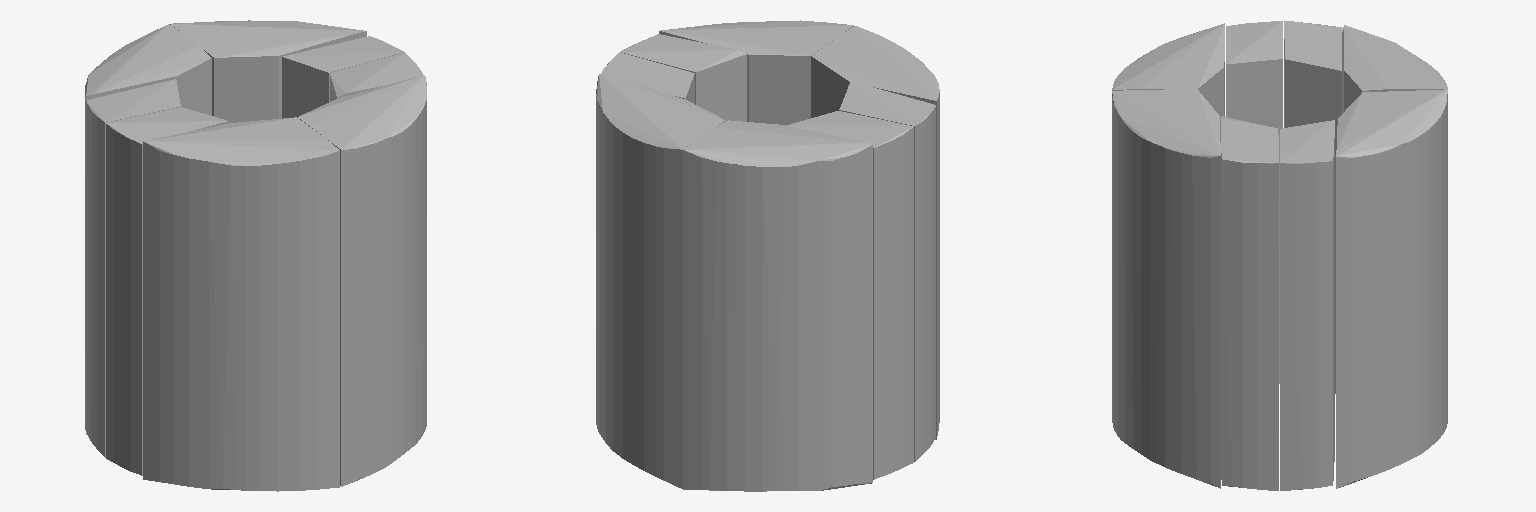
The robot description file, URDF, robot "root":
<robot name="root">
  <link name="link_cylinder with hole_convex_piece_0">
    <inertial>
      <origin xyz="0 0 0" rpy="0 0 0"/>
      <mass value="4.04E-02"/>
      <inertia ixx="4.88E-05" ixy="-1.36E-05" ixz="-1.55E-08" iyy="3.60E-05" iyz="-1.76E-08" izz="3.79E-05"/>
    </inertial>
    <visual>
      <origin xyz="0 0 0" rpy="0 0 0"/>
      <geometry>
        <mesh filename="cylinder with hole_convex_piece_0.obj" scale="1.0000E+00 1.0000E+00 1.0000E+00"/>
      </geometry>
      <material name="">
        <color rgba="7.50E-01 7.50E-01 7.50E-01 1"/>
      </material>
    </visual>
    <collision>
      <origin xyz="0 0 0" rpy="0 0 0"/>
      <geometry>
        <mesh filename="cylinder with hole_convex_piece_0.obj" scale="1.0000E+00 1.0000E+00 1.0000E+00"/>
      </geometry>
    </collision>
  </link>
  <link name="link_cylinder with hole_convex_piece_1">
    <inertial>
      <origin xyz="0 0 0" rpy="0 0 0"/>
      <mass value="1.69E-02"/>
      <inertia ixx="1.04E-05" ixy="-2.83E-06" ixz="-2.27E-09" iyy="2.26E-05" iyz="-1.39E-10" izz="1.39E-05"/>
    </inertial>
    <visual>
      <origin xyz="0 0 0" rpy="0 0 0"/>
      <geometry>
        <mesh filename="cylinder with hole_convex_piece_1.obj" scale="1.0000E+00 1.0000E+00 1.0000E+00"/>
      </geometry>
      <material name="">
        <color rgba="7.50E-01 7.50E-01 7.50E-01 1"/>
      </material>
    </visual>
    <collision>
      <origin xyz="0 0 0" rpy="0 0 0"/>
      <geometry>
        <mesh filename="cylinder with hole_convex_piece_1.obj" scale="1.0000E+00 1.0000E+00 1.0000E+00"/>
      </geometry>
    </collision>
  </link>
  <joint name="link_cylinder with hole_convex_piece_1_joint" type="fixed">
    <origin xyz="0 0 0" rpy="0 0 0"/>
    <parent link="link_cylinder with hole_convex_piece_0"/>
    <child link="link_cylinder with hole_convex_piece_1"/>
  </joint>
  <link name="link_cylinder with hole_convex_piece_2">
    <inertial>
      <origin xyz="0 0 0" rpy="0 0 0"/>
      <mass value="1.81E-02"/>
      <inertia ixx="1.16E-05" ixy="3.36E-06" ixz="1.68E-09" iyy="2.43E-05" iyz="-8.19E-10" izz="1.50E-05"/>
    </inertial>
    <visual>
      <origin xyz="0 0 0" rpy="0 0 0"/>
      <geometry>
        <mesh filename="cylinder with hole_convex_piece_2.obj" scale="1.0000E+00 1.0000E+00 1.0000E+00"/>
      </geometry>
      <material name="">
        <color rgba="7.50E-01 7.50E-01 7.50E-01 1"/>
      </material>
    </visual>
    <collision>
      <origin xyz="0 0 0" rpy="0 0 0"/>
      <geometry>
        <mesh filename="cylinder with hole_convex_piece_2.obj" scale="1.0000E+00 1.0000E+00 1.0000E+00"/>
      </geometry>
    </collision>
  </link>
  <joint name="link_cylinder with hole_convex_piece_2_joint" type="fixed">
    <origin xyz="0 0 0" rpy="0 0 0"/>
    <parent link="link_cylinder with hole_convex_piece_1"/>
    <child link="link_cylinder with hole_convex_piece_2"/>
  </joint>
  <link name="link_cylinder with hole_convex_piece_3">
    <inertial>
      <origin xyz="0 0 0" rpy="0 0 0"/>
      <mass value="3.97E-02"/>
      <inertia ixx="4.84E-05" ixy="1.33E-05" ixz="-8.98E-10" iyy="3.51E-05" iyz="6.18E-09" izz="3.73E-05"/>
    </inertial>
    <visual>
      <origin xyz="0 0 0" rpy="0 0 0"/>
      <geometry>
        <mesh filename="cylinder with hole_convex_piece_3.obj" scale="1.0000E+00 1.0000E+00 1.0000E+00"/>
      </geometry>
      <material name="">
        <color rgba="7.50E-01 7.50E-01 7.50E-01 1"/>
      </material>
    </visual>
    <collision>
      <origin xyz="0 0 0" rpy="0 0 0"/>
      <geometry>
        <mesh filename="cylinder with hole_convex_piece_3.obj" scale="1.0000E+00 1.0000E+00 1.0000E+00"/>
      </geometry>
    </collision>
  </link>
  <joint name="link_cylinder with hole_convex_piece_3_joint" type="fixed">
    <origin xyz="0 0 0" rpy="0 0 0"/>
    <parent link="link_cylinder with hole_convex_piece_2"/>
    <child link="link_cylinder with hole_convex_piece_3"/>
  </joint>
  <link name="link_cylinder with hole_convex_piece_4">
    <inertial>
      <origin xyz="0 0 0" rpy="0 0 0"/>
      <mass value="3.74E-02"/>
      <inertia ixx="4.62E-05" ixy="1.28E-05" ixz="-1.07E-09" iyy="3.28E-05" iyz="3.41E-09" izz="3.55E-05"/>
    </inertial>
    <visual>
      <origin xyz="0 0 0" rpy="0 0 0"/>
      <geometry>
        <mesh filename="cylinder with hole_convex_piece_4.obj" scale="1.0000E+00 1.0000E+00 1.0000E+00"/>
      </geometry>
      <material name="">
        <color rgba="7.50E-01 7.50E-01 7.50E-01 1"/>
      </material>
    </visual>
    <collision>
      <origin xyz="0 0 0" rpy="0 0 0"/>
      <geometry>
        <mesh filename="cylinder with hole_convex_piece_4.obj" scale="1.0000E+00 1.0000E+00 1.0000E+00"/>
      </geometry>
    </collision>
  </link>
  <joint name="link_cylinder with hole_convex_piece_4_joint" type="fixed">
    <origin xyz="0 0 0" rpy="0 0 0"/>
    <parent link="link_cylinder with hole_convex_piece_3"/>
    <child link="link_cylinder with hole_convex_piece_4"/>
  </joint>
  <link name="link_cylinder with hole_convex_piece_5">
    <inertial>
      <origin xyz="0 0 0" rpy="0 0 0"/>
      <mass value="1.84E-02"/>
      <inertia ixx="1.18E-05" ixy="3.75E-06" ixz="-8.65E-10" iyy="2.42E-05" iyz="2.01E-10" izz="1.52E-05"/>
    </inertial>
    <visual>
      <origin xyz="0 0 0" rpy="0 0 0"/>
      <geometry>
        <mesh filename="cylinder with hole_convex_piece_5.obj" scale="1.0000E+00 1.0000E+00 1.0000E+00"/>
      </geometry>
      <material name="">
        <color rgba="7.50E-01 7.50E-01 7.50E-01 1"/>
      </material>
    </visual>
    <collision>
      <origin xyz="0 0 0" rpy="0 0 0"/>
      <geometry>
        <mesh filename="cylinder with hole_convex_piece_5.obj" scale="1.0000E+00 1.0000E+00 1.0000E+00"/>
      </geometry>
    </collision>
  </link>
  <joint name="link_cylinder with hole_convex_piece_5_joint" type="fixed">
    <origin xyz="0 0 0" rpy="0 0 0"/>
    <parent link="link_cylinder with hole_convex_piece_4"/>
    <child link="link_cylinder with hole_convex_piece_5"/>
  </joint>
  <link name="link_cylinder with hole_convex_piece_6">
    <inertial>
      <origin xyz="0 0 0" rpy="0 0 0"/>
      <mass value="1.78E-02"/>
      <inertia ixx="1.11E-05" ixy="-2.81E-06" ixz="-6.78E-22" iyy="2.40E-05" iyz="6.36E-23" izz="1.47E-05"/>
    </inertial>
    <visual>
      <origin xyz="0 0 0" rpy="0 0 0"/>
      <geometry>
        <mesh filename="cylinder with hole_convex_piece_6.obj" scale="1.0000E+00 1.0000E+00 1.0000E+00"/>
      </geometry>
      <material name="">
        <color rgba="7.50E-01 7.50E-01 7.50E-01 1"/>
      </material>
    </visual>
    <collision>
      <origin xyz="0 0 0" rpy="0 0 0"/>
      <geometry>
        <mesh filename="cylinder with hole_convex_piece_6.obj" scale="1.0000E+00 1.0000E+00 1.0000E+00"/>
      </geometry>
    </collision>
  </link>
  <joint name="link_cylinder with hole_convex_piece_6_joint" type="fixed">
    <origin xyz="0 0 0" rpy="0 0 0"/>
    <parent link="link_cylinder with hole_convex_piece_5"/>
    <child link="link_cylinder with hole_convex_piece_6"/>
  </joint>
  <link name="link_cylinder with hole_convex_piece_7">
    <inertial>
      <origin xyz="0 0 0" rpy="0 0 0"/>
      <mass value="4.07E-02"/>
      <inertia ixx="4.87E-05" ixy="-1.38E-05" ixz="-1.96E-09" iyy="3.66E-05" iyz="-5.21E-09" izz="3.80E-05"/>
    </inertial>
    <visual>
      <origin xyz="0 0 0" rpy="0 0 0"/>
      <geometry>
        <mesh filename="cylinder with hole_convex_piece_7.obj" scale="1.0000E+00 1.0000E+00 1.0000E+00"/>
      </geometry>
      <material name="">
        <color rgba="7.50E-01 7.50E-01 7.50E-01 1"/>
      </material>
    </visual>
    <collision>
      <origin xyz="0 0 0" rpy="0 0 0"/>
      <geometry>
        <mesh filename="cylinder with hole_convex_piece_7.obj" scale="1.0000E+00 1.0000E+00 1.0000E+00"/>
      </geometry>
    </collision>
  </link>
  <joint name="link_cylinder with hole_convex_piece_7_joint" type="fixed">
    <origin xyz="0 0 0" rpy="0 0 0"/>
    <parent link="link_cylinder with hole_convex_piece_6"/>
    <child link="link_cylinder with hole_convex_piece_7"/>
  </joint>
</robot>

--- Facts derived from the render (not from the file) ---
3 views of the same robot in one strip: view 1: azimuth 30°, elevation 25°; view 2: azimuth 150°, elevation 25°; view 3: azimuth 270°, elevation 25° (orthographic).
Robot: root — 8 links, 7 joints (7 fixed); root link link_cylinder with hole_convex_piece_0; default pose: every joint at zero.
Visible links, largest first — view 1: link_cylinder with hole_convex_piece_7, link_cylinder with hole_convex_piece_3, link_cylinder with hole_convex_piece_6, link_cylinder with hole_convex_piece_0, link_cylinder with hole_convex_piece_5, link_cylinder with hole_convex_piece_4, link_cylinder with hole_convex_piece_1, link_cylinder with hole_convex_piece_2; view 2: link_cylinder with hole_convex_piece_4, link_cylinder with hole_convex_piece_0, link_cylinder with hole_convex_piece_5, link_cylinder with hole_convex_piece_6, link_cylinder with hole_convex_piece_3, link_cylinder with hole_convex_piece_7, link_cylinder with hole_convex_piece_2, link_cylinder with hole_convex_piece_1; view 3: link_cylinder with hole_convex_piece_0, link_cylinder with hole_convex_piece_3, link_cylinder with hole_convex_piece_2, link_cylinder with hole_convex_piece_1, link_cylinder with hole_convex_piece_5, link_cylinder with hole_convex_piece_6, link_cylinder with hole_convex_piece_7, link_cylinder with hole_convex_piece_4.
Boxes of the visible links, x1,y1,x2,y2 form: link_cylinder with hole_convex_piece_7: (143,117,339,491); link_cylinder with hole_convex_piece_3: (297,75,426,486); link_cylinder with hole_convex_piece_6: (106,107,228,475); link_cylinder with hole_convex_piece_0: (170,20,366,122); link_cylinder with hole_convex_piece_5: (86,79,180,457); link_cylinder with hole_convex_piece_4: (85,24,211,434); link_cylinder with hole_convex_piece_1: (282,36,404,118); link_cylinder with hole_convex_piece_2: (330,53,422,101); link_cylinder with hole_convex_piece_4: (683,120,872,491); link_cylinder with hole_convex_piece_0: (596,74,724,488); link_cylinder with hole_convex_piece_5: (786,111,913,479); link_cylinder with hole_convex_piece_6: (839,81,935,461); link_cylinder with hole_convex_piece_3: (659,20,853,125); link_cylinder with hole_convex_piece_7: (811,26,939,439); link_cylinder with hole_convex_piece_2: (621,34,746,121); link_cylinder with hole_convex_piece_1: (601,52,694,103); link_cylinder with hole_convex_piece_0: (1336,89,1447,488); link_cylinder with hole_convex_piece_3: (1112,89,1220,488); link_cylinder with hole_convex_piece_2: (1221,116,1278,490); link_cylinder with hole_convex_piece_1: (1280,120,1334,490); link_cylinder with hole_convex_piece_5: (1284,21,1342,393); link_cylinder with hole_convex_piece_6: (1226,21,1282,383); link_cylinder with hole_convex_piece_7: (1112,23,1224,142); link_cylinder with hole_convex_piece_4: (1343,25,1447,112).
Bounding box of the posed robot: 0.0771 × 0.077 × 0.0841 m (x, y, z).
8 mesh visuals loaded from 8 distinct referenced files (8 OBJ).
